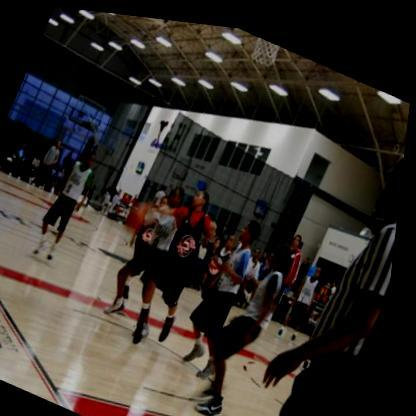basketball: (128, 196, 154, 231)
